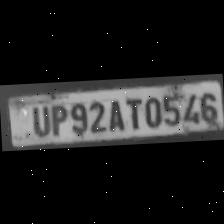0: (140, 92, 162, 128)
2: (86, 97, 106, 132)
4: (179, 90, 199, 126)
5: (160, 91, 182, 127)
6: (196, 89, 218, 125)
9: (65, 100, 87, 134)
A: (104, 96, 124, 132)
P: (47, 100, 67, 136)
T: (123, 95, 143, 131)
U: (28, 102, 50, 136)
